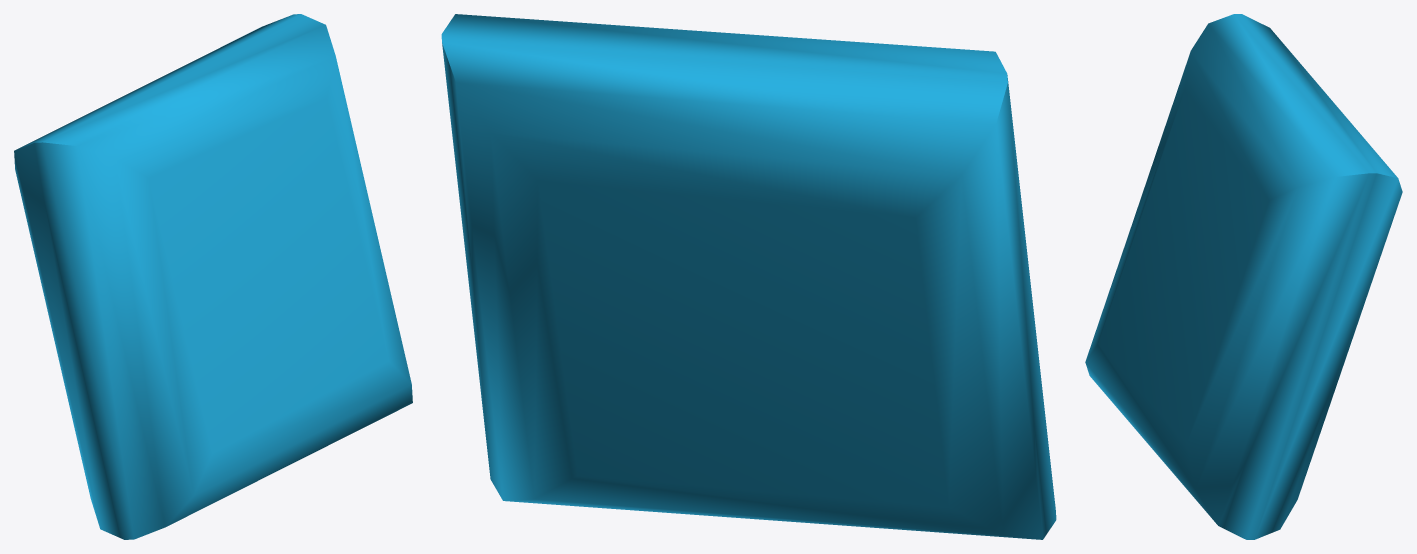
The model's file is Cushion_1.fbx.
3 renders of one model, left to right at view 1: azimuth 30°, elevation 25°; view 2: azimuth 150°, elevation 25°; view 3: azimuth 270°, elevation 25°, orthographic. The views are drawn at different scales.
Visible parts, largest first — view 1: pCube11; view 2: pCube11; view 3: pCube11.
Part boxes in pixels (x1,y1,x2,y2): pCube11: (14,14,412,539); pCube11: (441,14,1056,539); pCube11: (1085,14,1402,539).
Bounding box in the file's own units: 0.3753 × 0.3496 × 0.2811.
